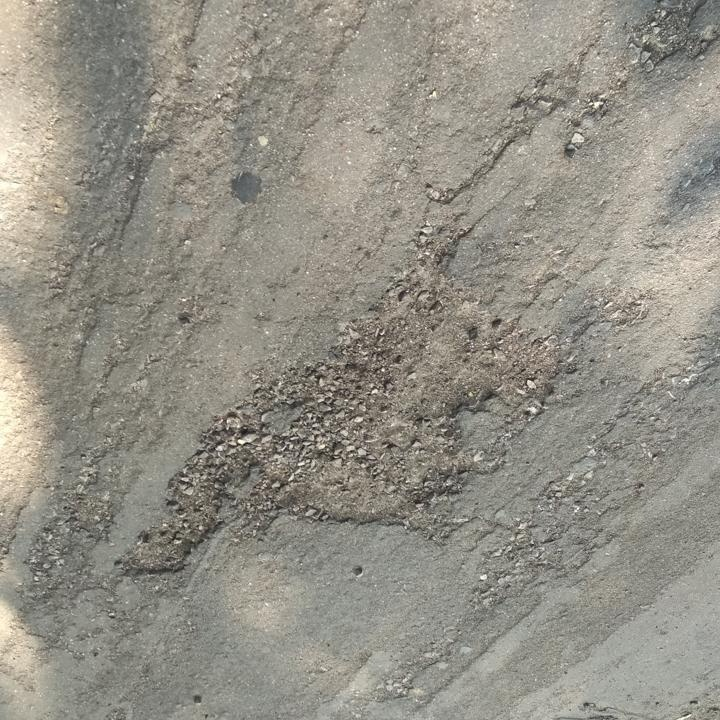pothole: (208, 245, 577, 553), (115, 414, 229, 579)
